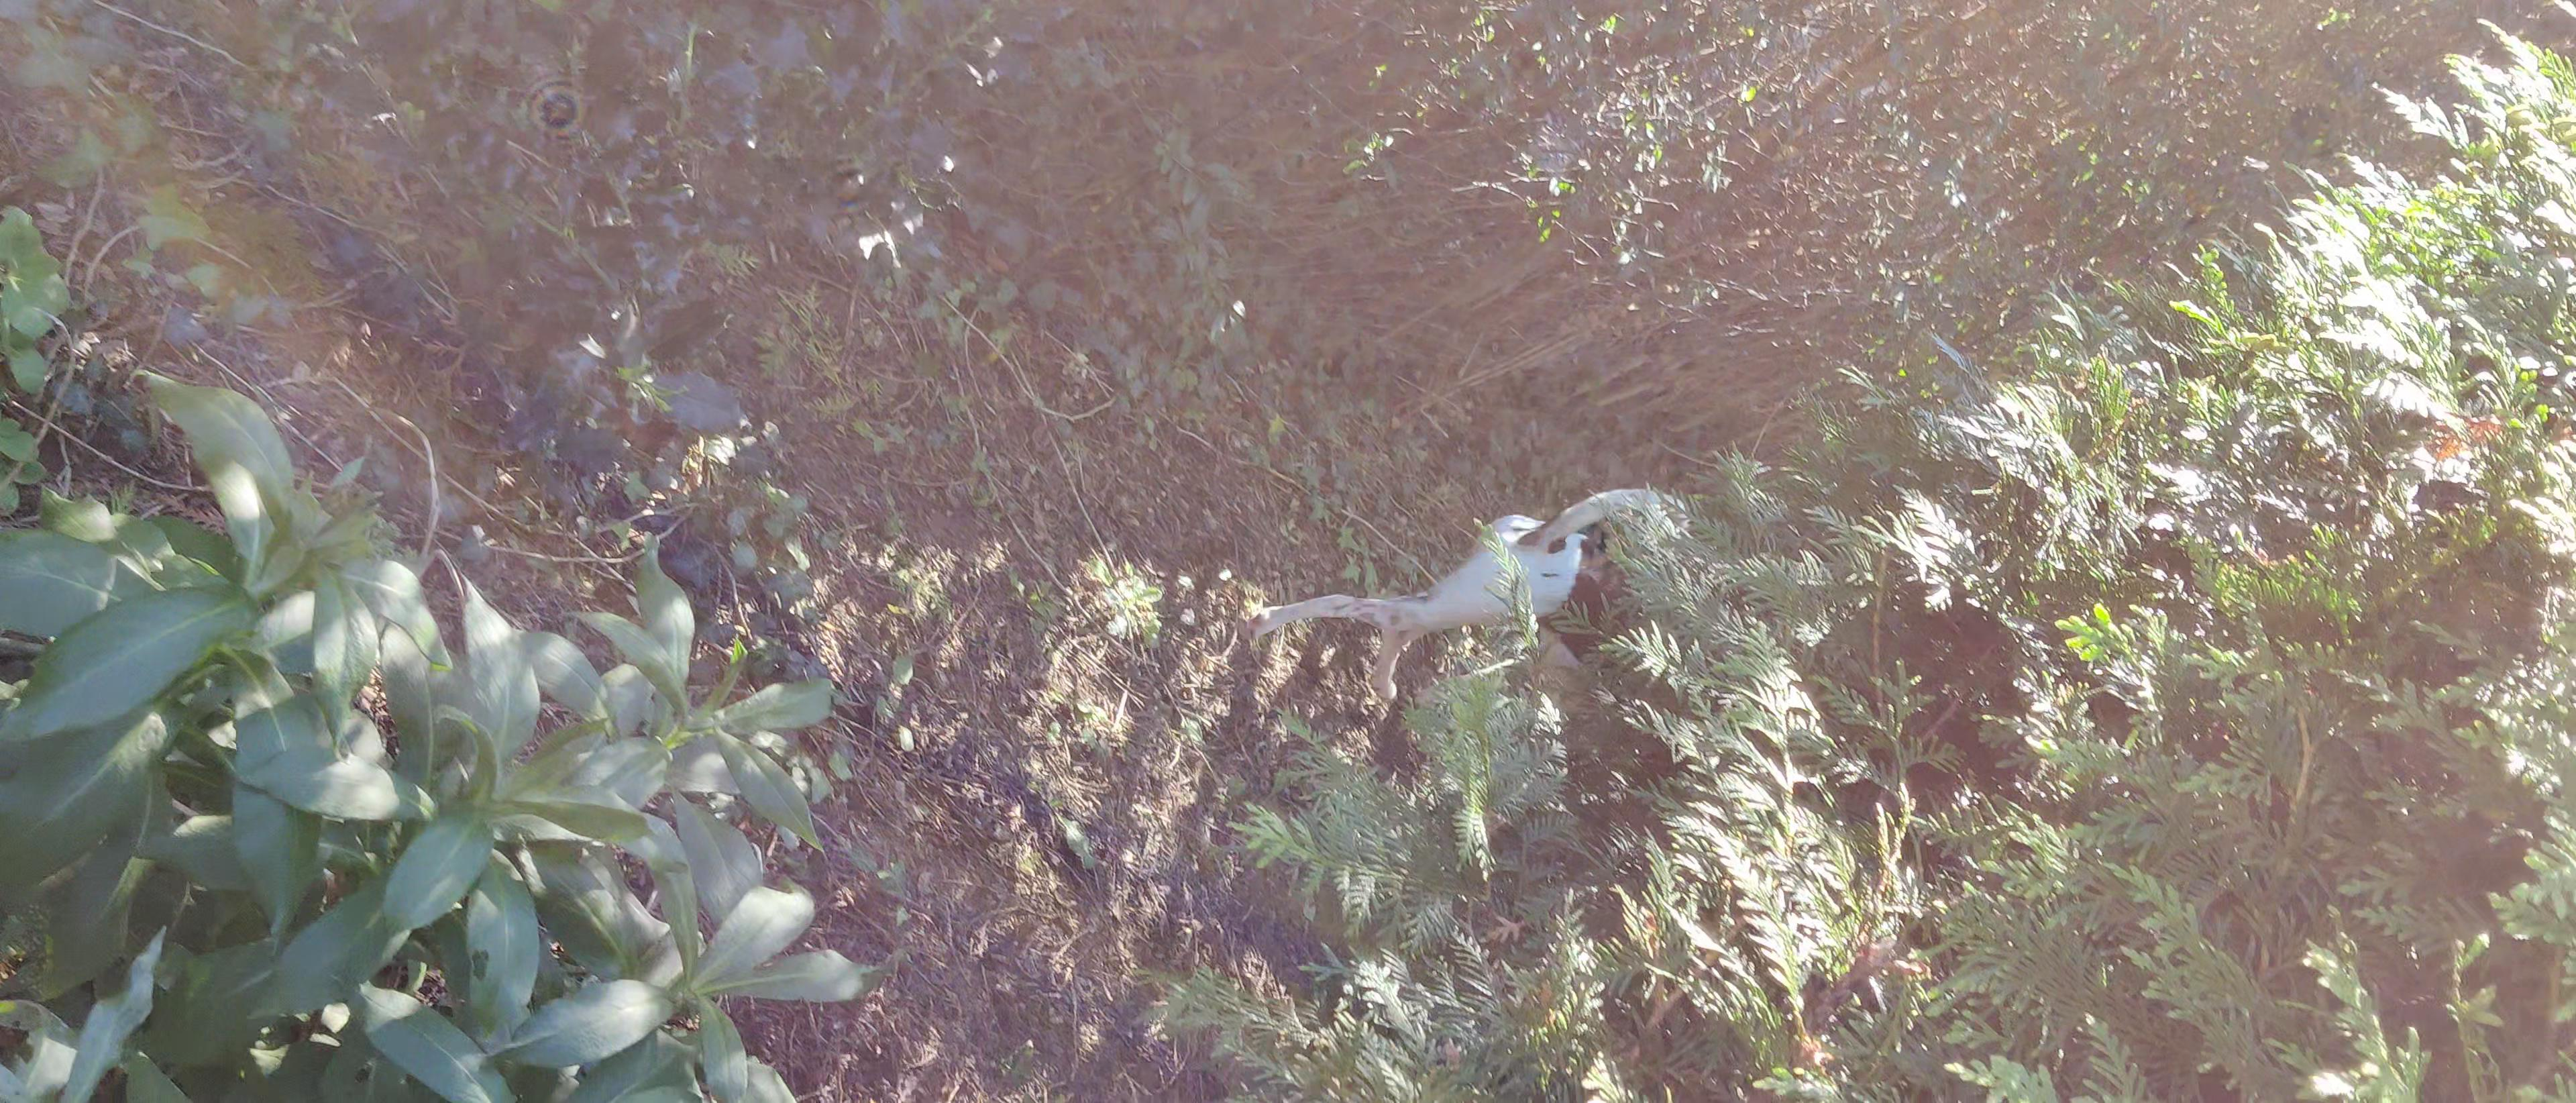Dog: (1242, 480, 1676, 704)
